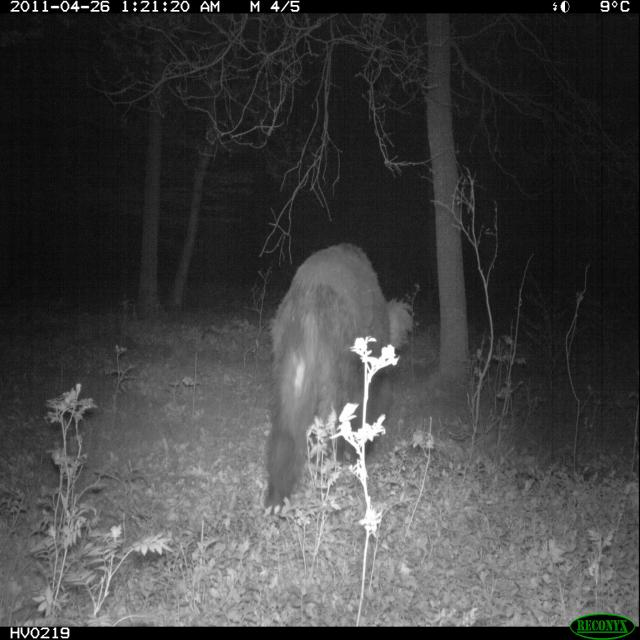boar: (241, 227, 437, 490)
